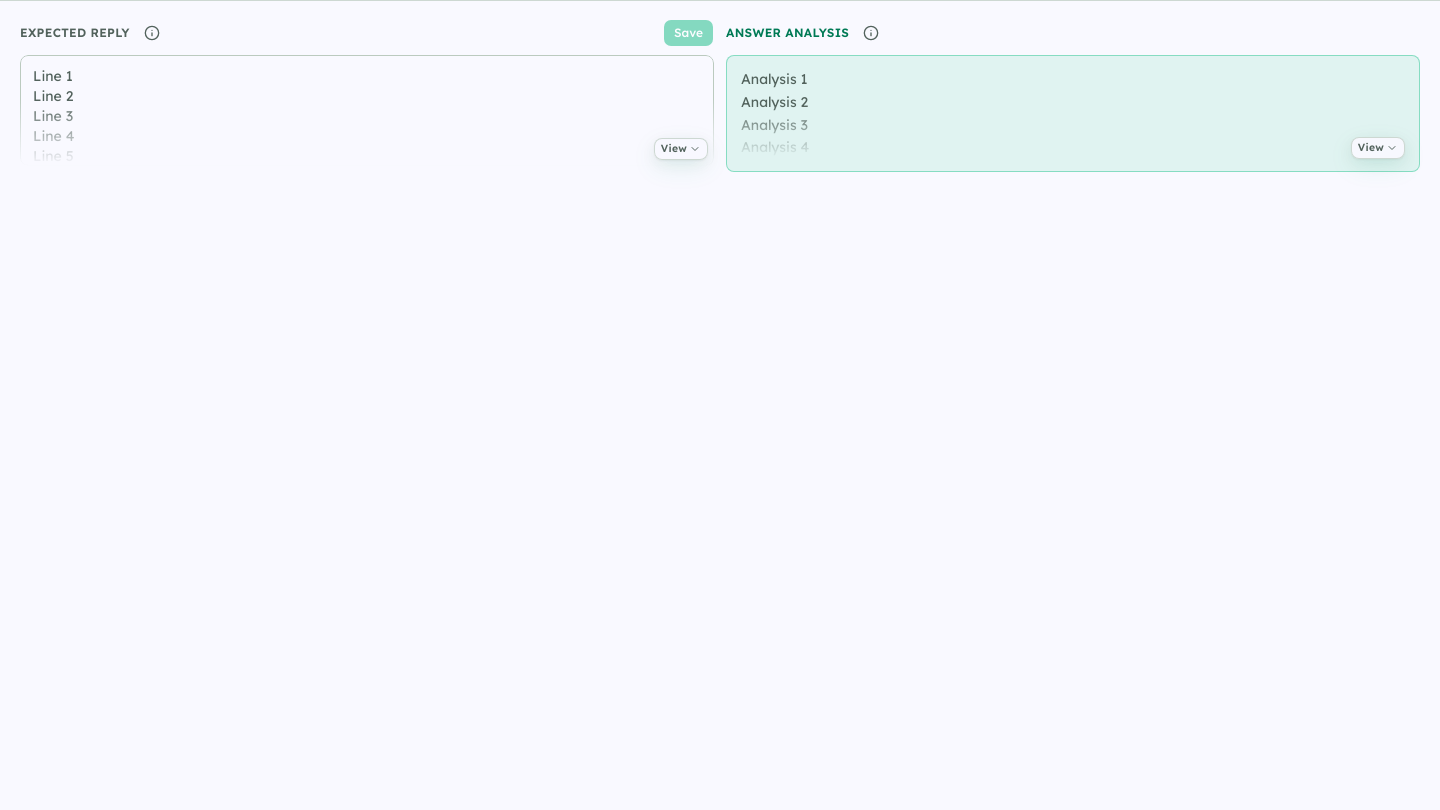
EvalExpectedDock › EvalExpectedDock → opens a dual-pane modal from the faded text preview
Click the button with aria-label "View full" at (681, 147), box [654,134,708,160]
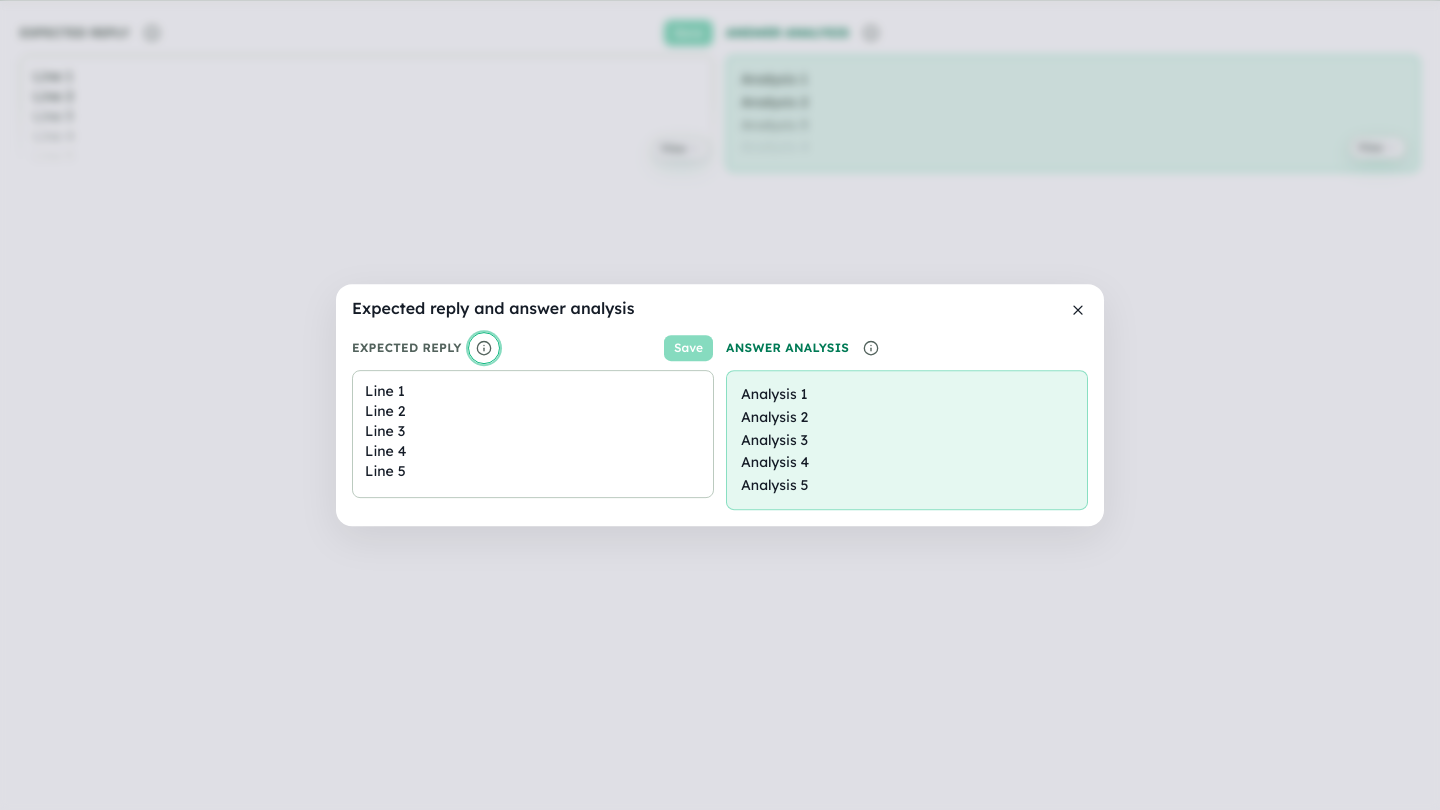
Now the heading "Expected reply and answer analysis" is shown, box [352,298,635,318]
Now the text "Answer analysis" is shown, box [726,340,849,356]
Now the text "Analysis 1" is shown, box [741,385,809,494]
